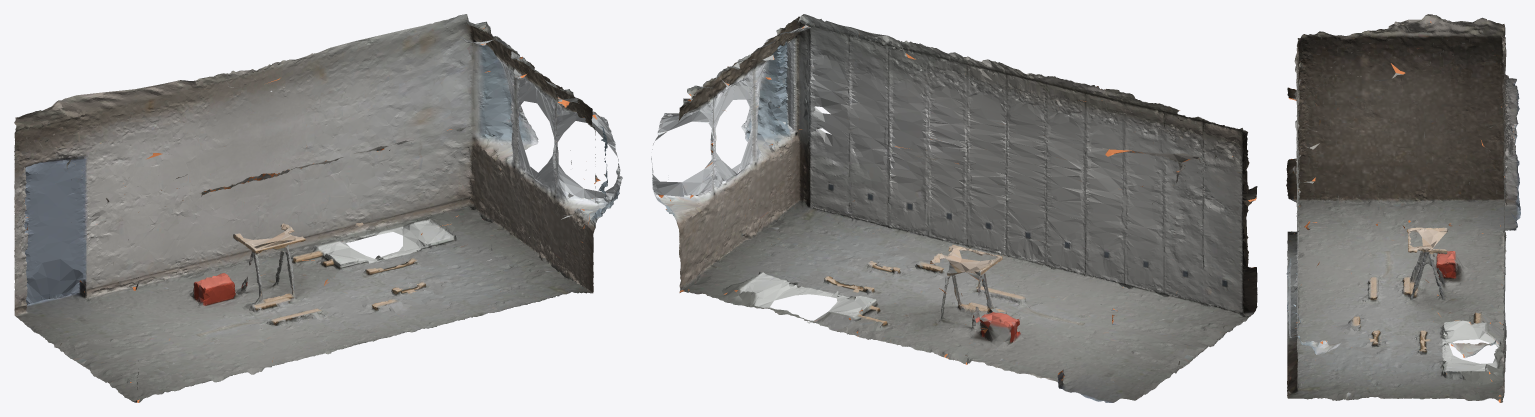
The picture shows the model from 3 angles, left to right: view 1: azimuth 30°, elevation 25°; view 2: azimuth 150°, elevation 25°; view 3: azimuth 270°, elevation 25°; orthographic projection. The views are drawn at different scales.
Parts seen in each view (by area): view 1: textured.obj; view 2: textured.obj; view 3: textured.obj.
Part boxes in pixels (x1=…): textured.obj: x1=14, y1=14, x2=622, y2=402; textured.obj: x1=651, y1=14, x2=1257, y2=402; textured.obj: x1=1286, y1=14, x2=1520, y2=402.
Bounding box in the file's own units: 8.04 × 3.18 × 3.6.
Materials: 1 (1 with a texture image).
